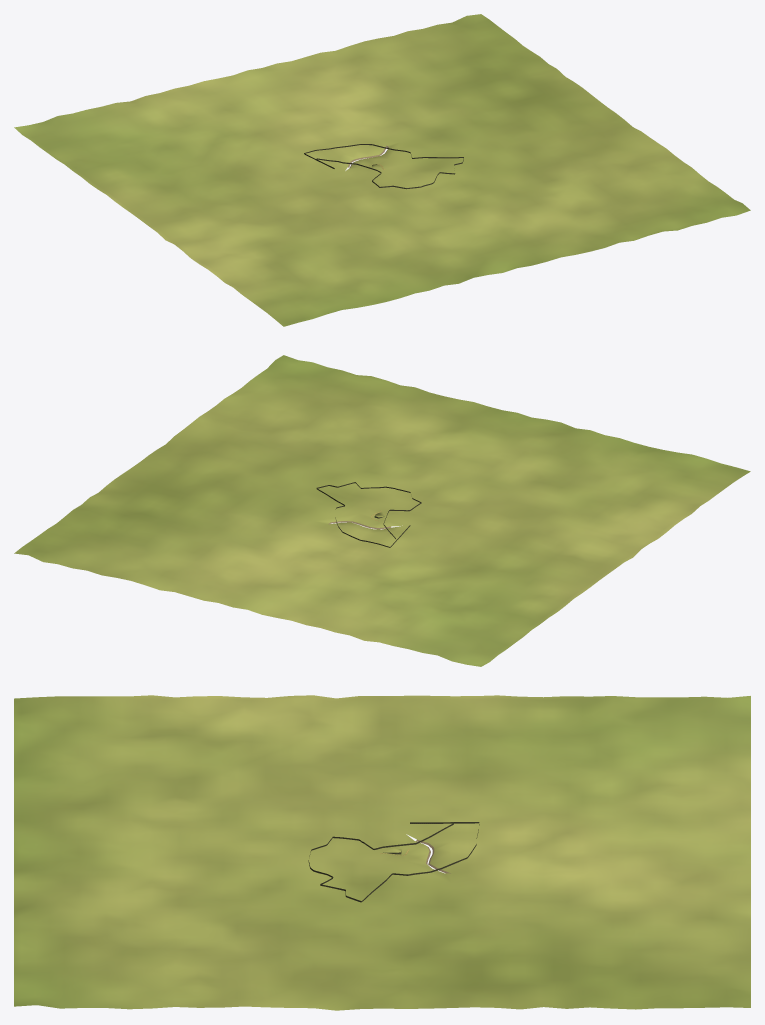
Rendered from field_main.fbx.
The picture shows the model from 3 angles, top to bottom: view 1: azimuth 30°, elevation 25°; view 2: azimuth 150°, elevation 25°; view 3: azimuth 270°, elevation 25°; orthographic projection. The views are drawn at different scales.
Parts seen in each view (by area): view 1: terrain, fieldWall; view 2: terrain; view 3: terrain, fieldWall.
Part boxes in pixels (left/top/right/bottom): terrain: left=14, top=14, right=750, bottom=326; fieldWall: left=304, top=144, right=463, bottom=189; terrain: left=14, top=355, right=750, bottom=666; terrain: left=14, top=695, right=750, bottom=1010; fieldWall: left=308, top=822, right=479, bottom=902.
Size of the model in its own units: 345699 by 4162 by 345699.
